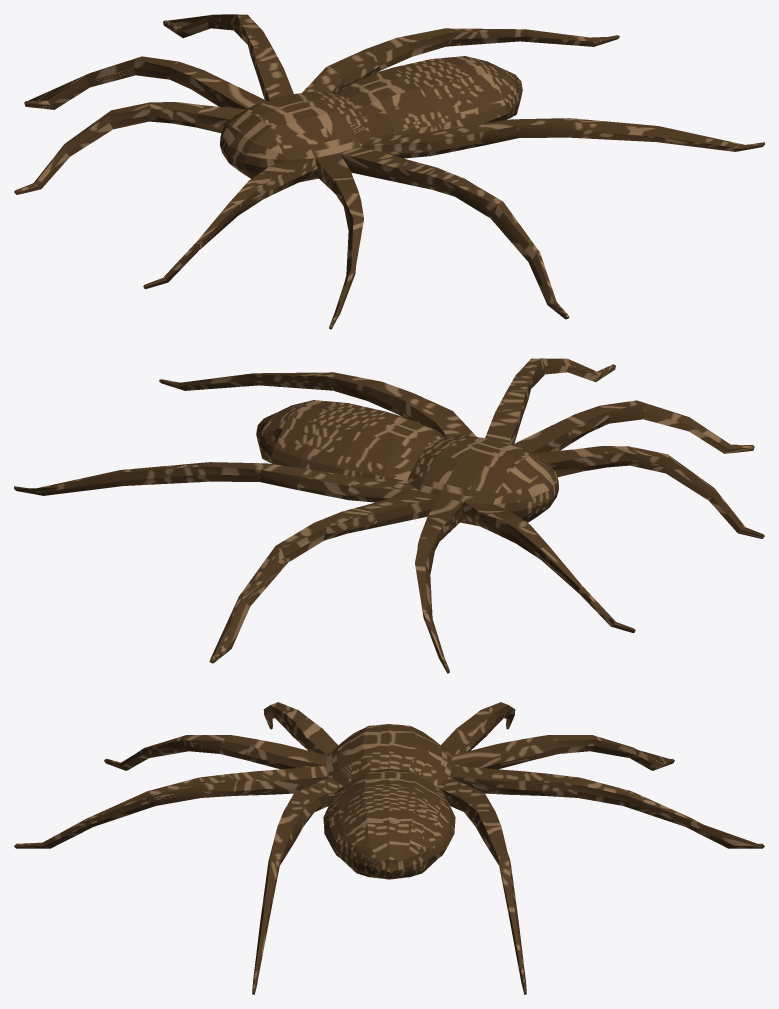
Rendered from Spooder.obj.
3 renders of one model, top to bottom at view 1: azimuth 30°, elevation 25°; view 2: azimuth 150°, elevation 25°; view 3: azimuth 270°, elevation 25°, orthographic. The views are drawn at different scales.
Parts seen in each view (by area): view 1: Spooder; view 2: Spooder; view 3: Spooder.
Part boxes in pixels (<box>): Spooder: <box>14,14,764,329</box>; Spooder: <box>14,358,764,673</box>; Spooder: <box>14,702,764,994</box>.
Bounding box in the file's own units: 6.37 × 0.863 × 7.28.
Materials: 1 (1 with a texture image).
